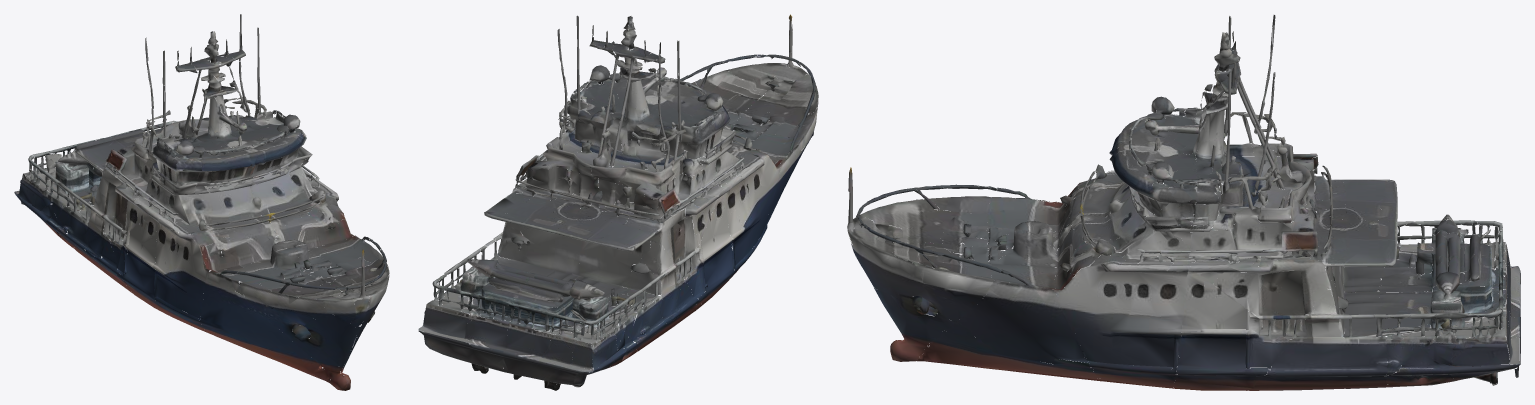
Rendered from vessel.glb.
3 renders of one model, left to right at view 1: azimuth 30°, elevation 25°; view 2: azimuth 150°, elevation 25°; view 3: azimuth 270°, elevation 25°, orthographic. The views are drawn at different scales.
Visible parts, largest first — view 1: tripo_node_7a818175-b72c-474e-9308-2c7e5ec2cd9b; view 2: tripo_node_7a818175-b72c-474e-9308-2c7e5ec2cd9b; view 3: tripo_node_7a818175-b72c-474e-9308-2c7e5ec2cd9b.
Part boxes in pixels (bbox=[...]): tripo_node_7a818175-b72c-474e-9308-2c7e5ec2cd9b: bbox=[14, 14, 389, 390]; tripo_node_7a818175-b72c-474e-9308-2c7e5ec2cd9b: bbox=[418, 14, 818, 390]; tripo_node_7a818175-b72c-474e-9308-2c7e5ec2cd9b: bbox=[847, 15, 1520, 390].
Size of the model in its own units: 9.89 by 15.09 by 28.
Materials: 1 (1 with a texture image).
